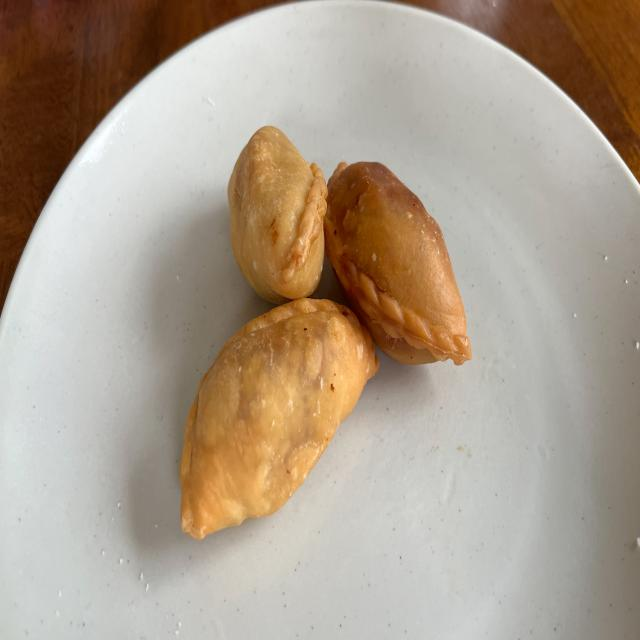karipap: (180, 298, 379, 540), (324, 162, 471, 364), (228, 127, 328, 304)
